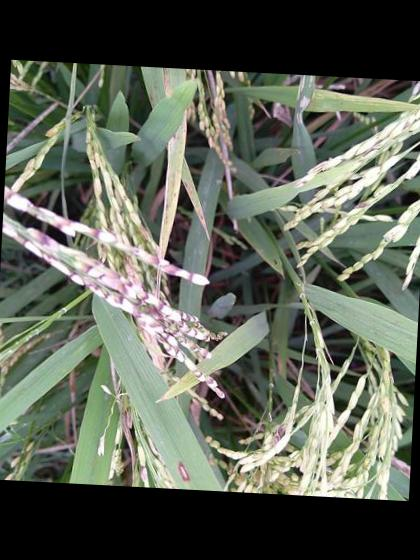Panicle Blight: (2, 186, 225, 399)
